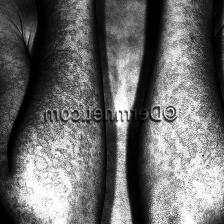Toxin: (177, 0, 214, 218), (12, 127, 94, 224), (38, 0, 88, 106), (0, 54, 16, 124)
